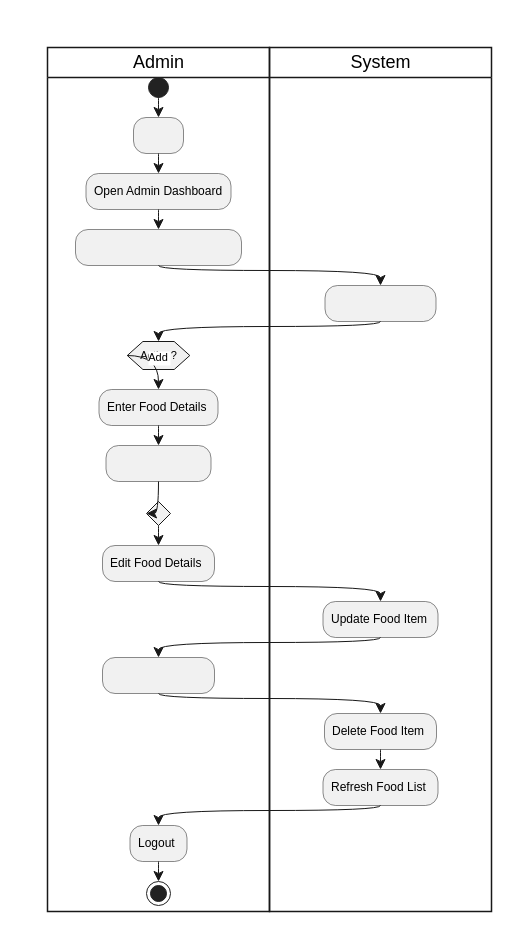
Image size: 509x929. Some labels were removed from this diagram. The centre of each missing label's shape, as x and y in pixels:
"Load Food Items" goes at [380,303].
"Login" goes at [158,135].
"Save Food Item" goes at [158,463].
"Select Food Item" goes at [158,675].
"Select Manage Food Items" goes at [158,247].
